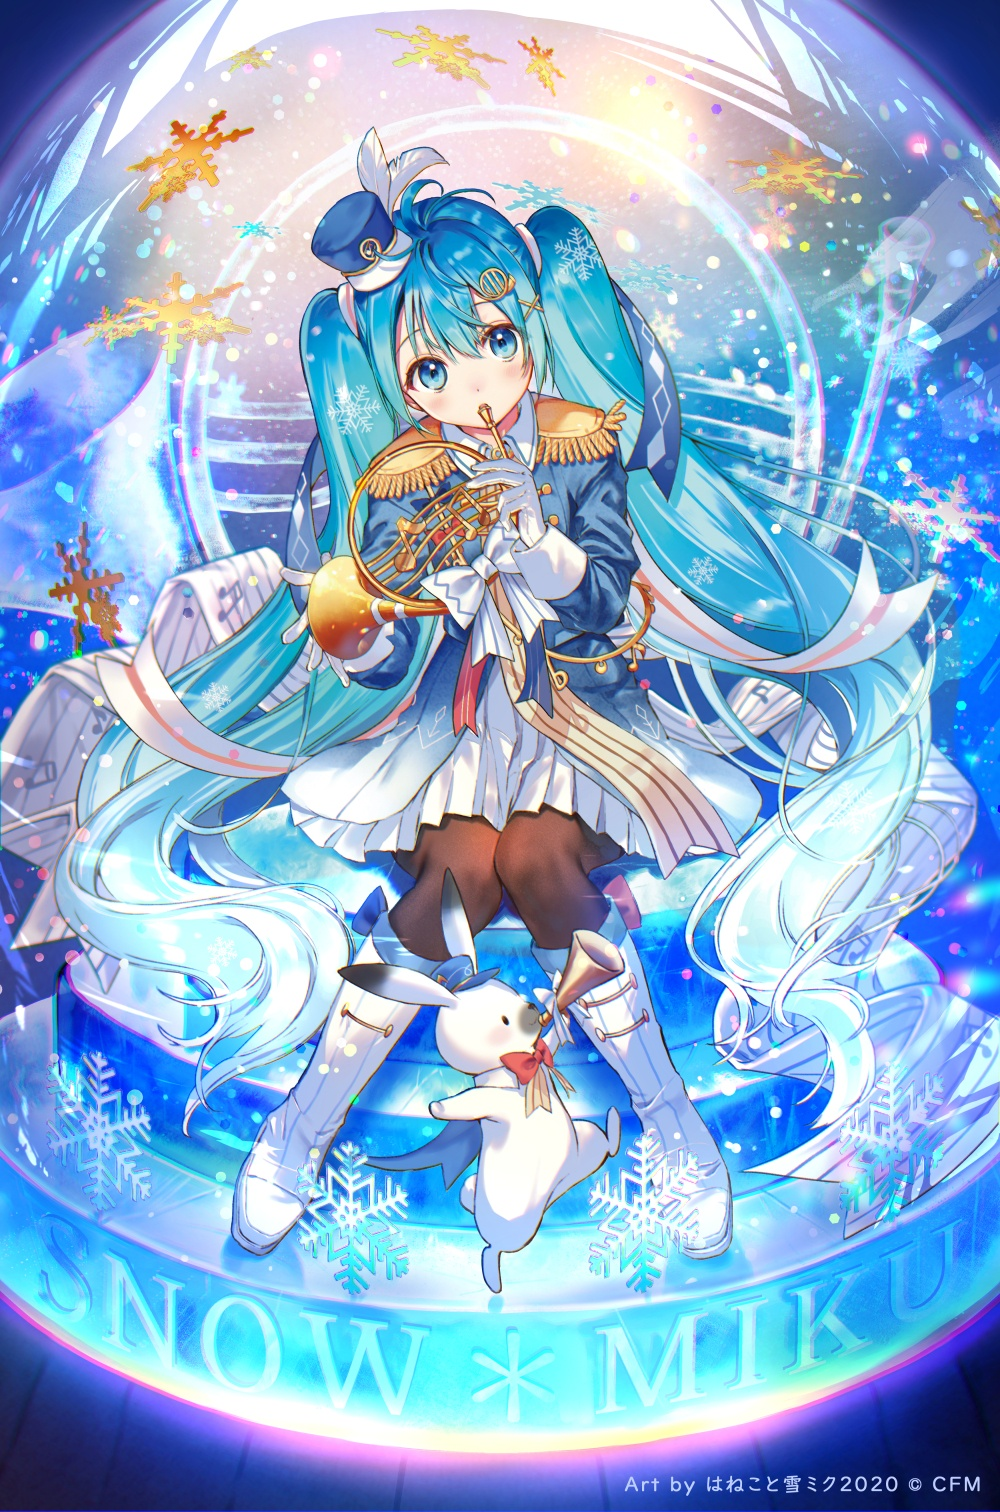纸片人正脸: (341, 218, 555, 435)
